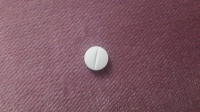Arveles: (83, 45, 110, 72)
